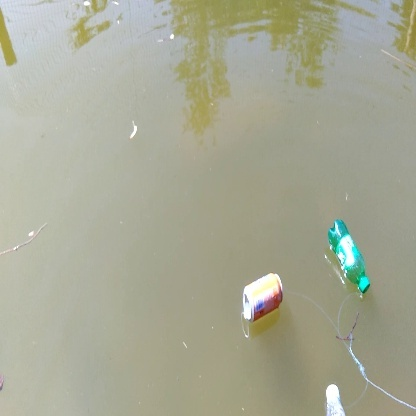bottle: (236, 262, 290, 328)
